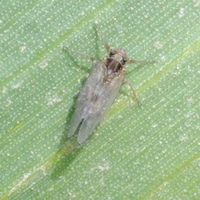insect: (67, 46, 127, 143)
